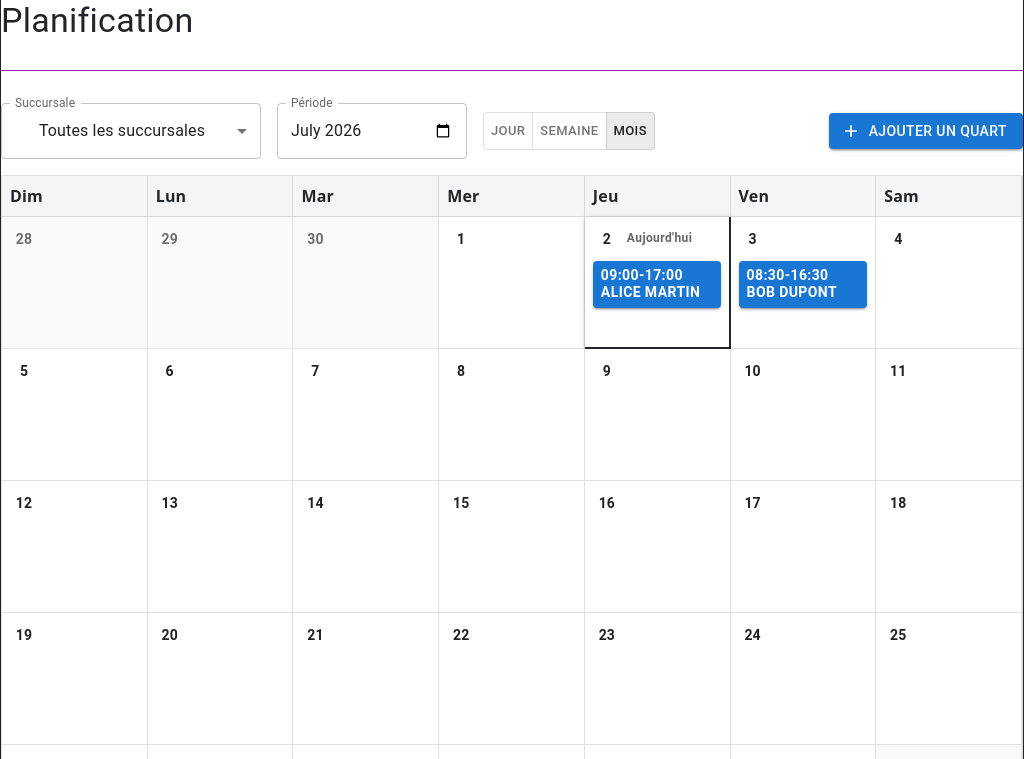
Test: SchedulesPage › should show shift details when clicking a shift
Click the text "Alice Martin" at (657, 293), box x1=601 y1=284 x2=712 y2=302
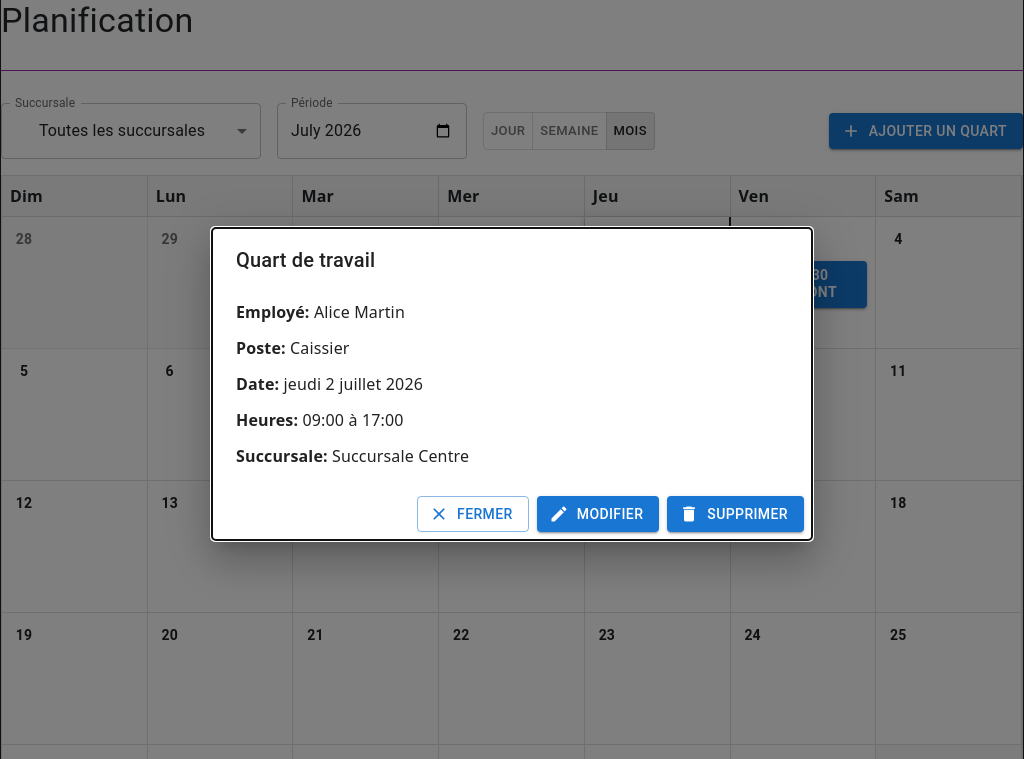
Result: the heading "Quart de travail" is shown at x1=236 y1=248 x2=375 y2=272
Result: the text "Poste: Caissier" is shown at x1=236 y1=337 x2=350 y2=359
Result: the text "Succursale: Succursale Centre" is shown at x1=236 y1=445 x2=469 y2=467
